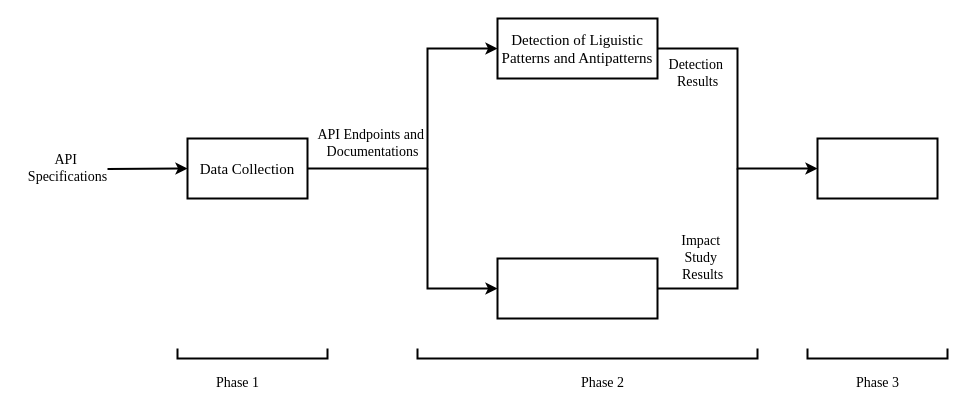
The diagram is 966 pixels wide and 415 high, and some of its shapes have lost their labels. Each missing label, with the box of its shape:
Answer Research Questions: (816, 137, 938, 199)
Impact Study: (496, 257, 658, 319)
